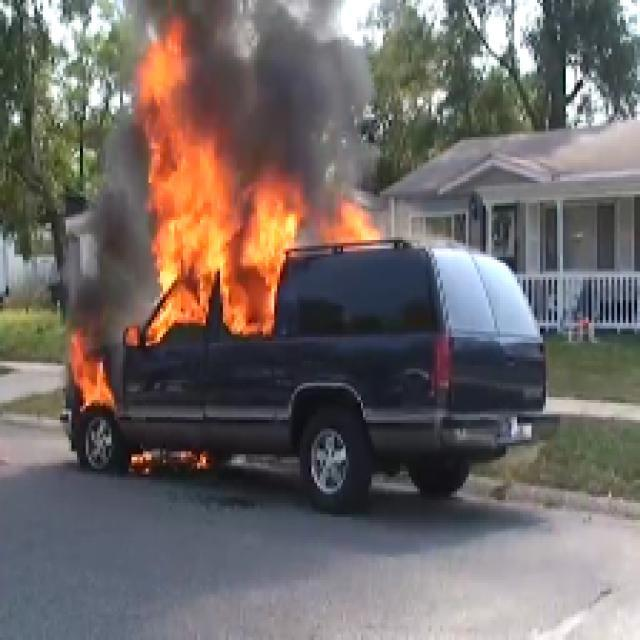Fire: (143, 140, 294, 323)
Smoke: (201, 19, 359, 132), (91, 180, 136, 332)
